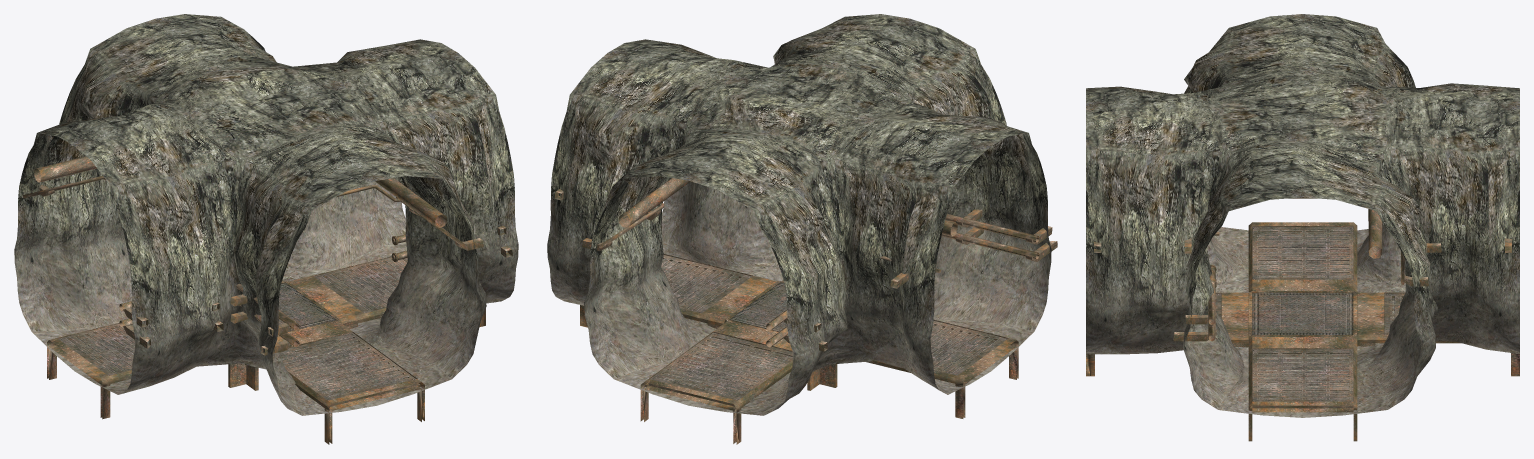
The model's file is poi_all_bunker_mad_bio_s01_r7_intersection1_mesh_r7.fbx.
The picture shows the model from 3 angles, left to right: view 1: azimuth 30°, elevation 25°; view 2: azimuth 150°, elevation 25°; view 3: azimuth 270°, elevation 25°; orthographic projection. The views are drawn at different scales.
Parts seen in each view (by area): view 1: mesh_node; view 2: mesh_node; view 3: mesh_node.
Boxes of the visible parts, box(x1,y1,x2,y2) form: mesh_node: box(14, 14, 518, 444); mesh_node: box(547, 14, 1057, 444); mesh_node: box(1086, 14, 1519, 441).
Bounding box in the file's own units: 12 × 7.77 × 12.
